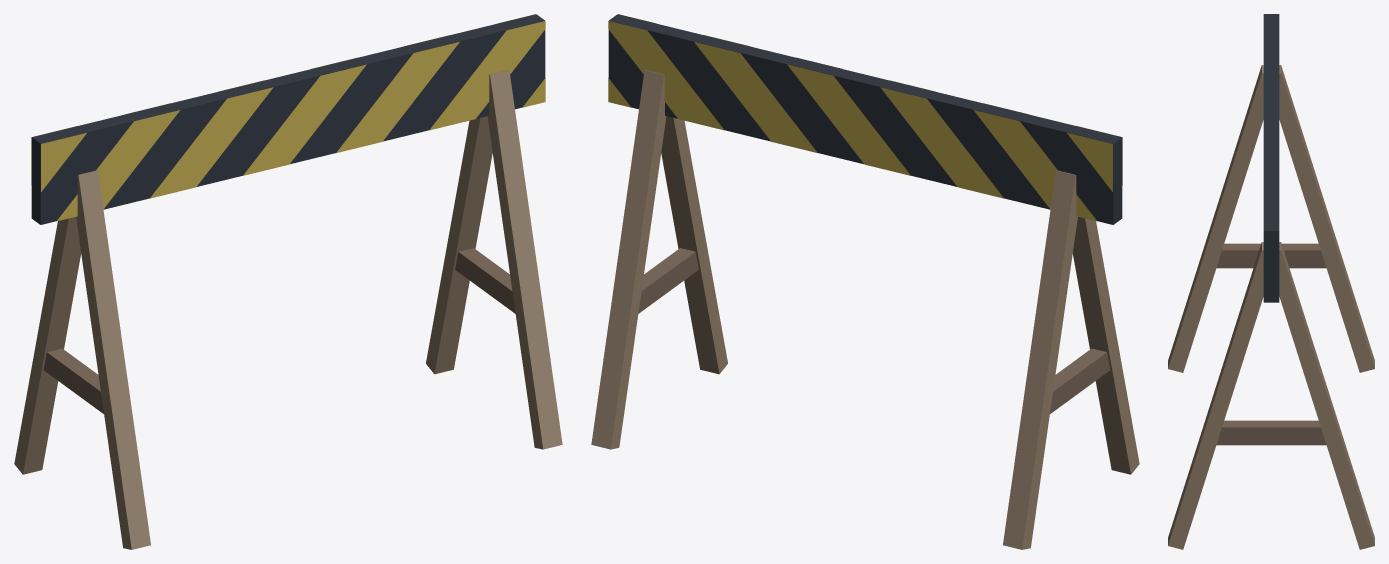
File: valla_obras.glb
3 renders of one model, left to right at view 1: azimuth 30°, elevation 25°; view 2: azimuth 150°, elevation 25°; view 3: azimuth 270°, elevation 25°, orthographic. The views are drawn at different scales.
Parts seen in each view (by area): view 1: VallaObras; view 2: VallaObras; view 3: VallaObras.
Part boxes in pixels (<box>): VallaObras: <box>14,14,562,549</box>; VallaObras: <box>591,14,1139,549</box>; VallaObras: <box>1168,14,1374,549</box>.
Bounding box in the file's own units: 1.3 × 0.9351 × 0.524.
